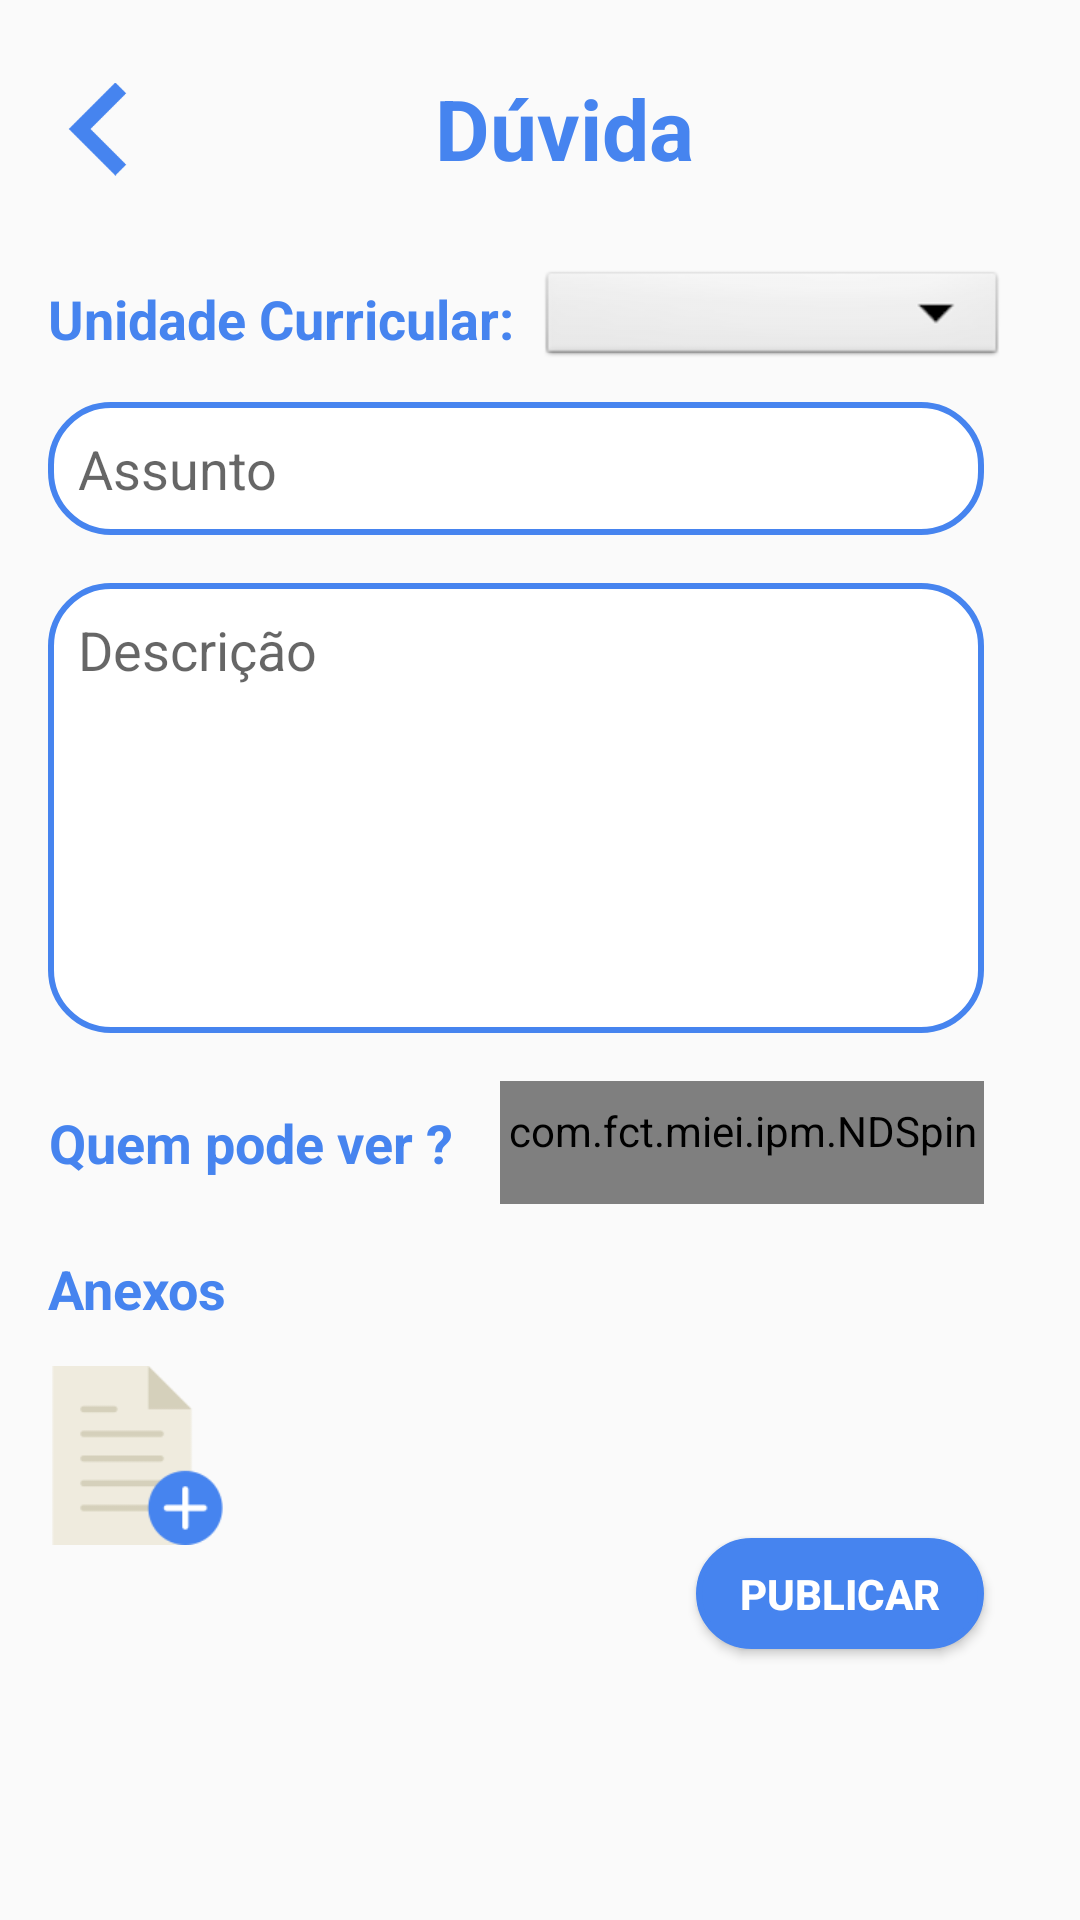

Icons on this 1080×1920 Android screen, each with its box as (x1, y1, x2, y2):
backbutton: (69, 83, 126, 176)
fileadd: (54, 1366, 223, 1545)
